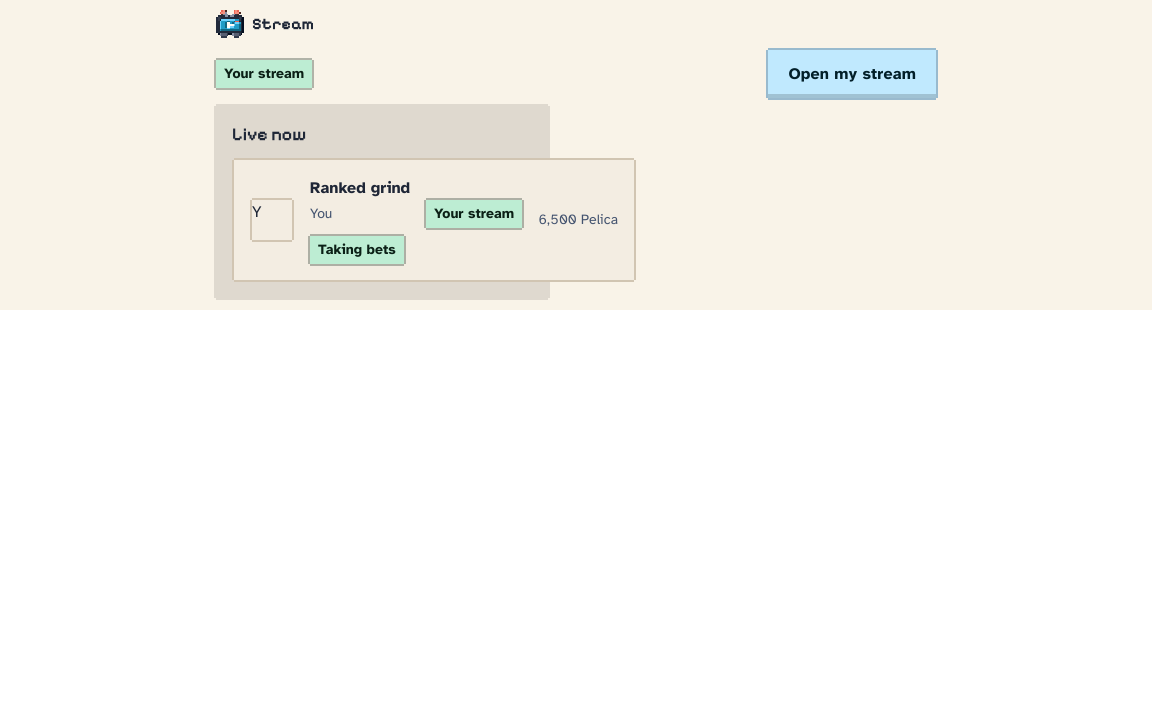
Test: StreamScreen › treats an open round past autoLockAt as locked (D3) and refreshes recent tips on StreamTipped
Click the button "Open my stream".
click(852, 74)  # box [768,50,936,98]
(page scrolled)
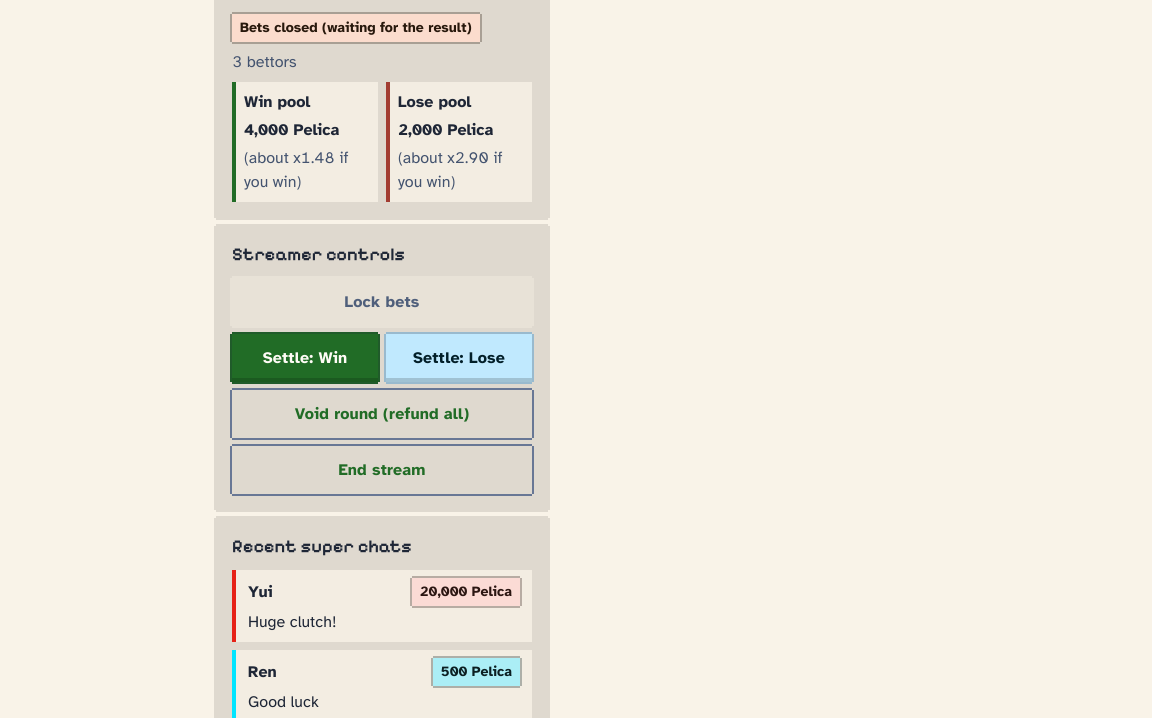
Check: the text "Bets closed" is shown, box [240,19,472,36]
Check: the button "Settle: Win" is enabled, box [232,334,378,382]
Check: the button "Settle: Lose" is enabled, box [386,334,532,382]
